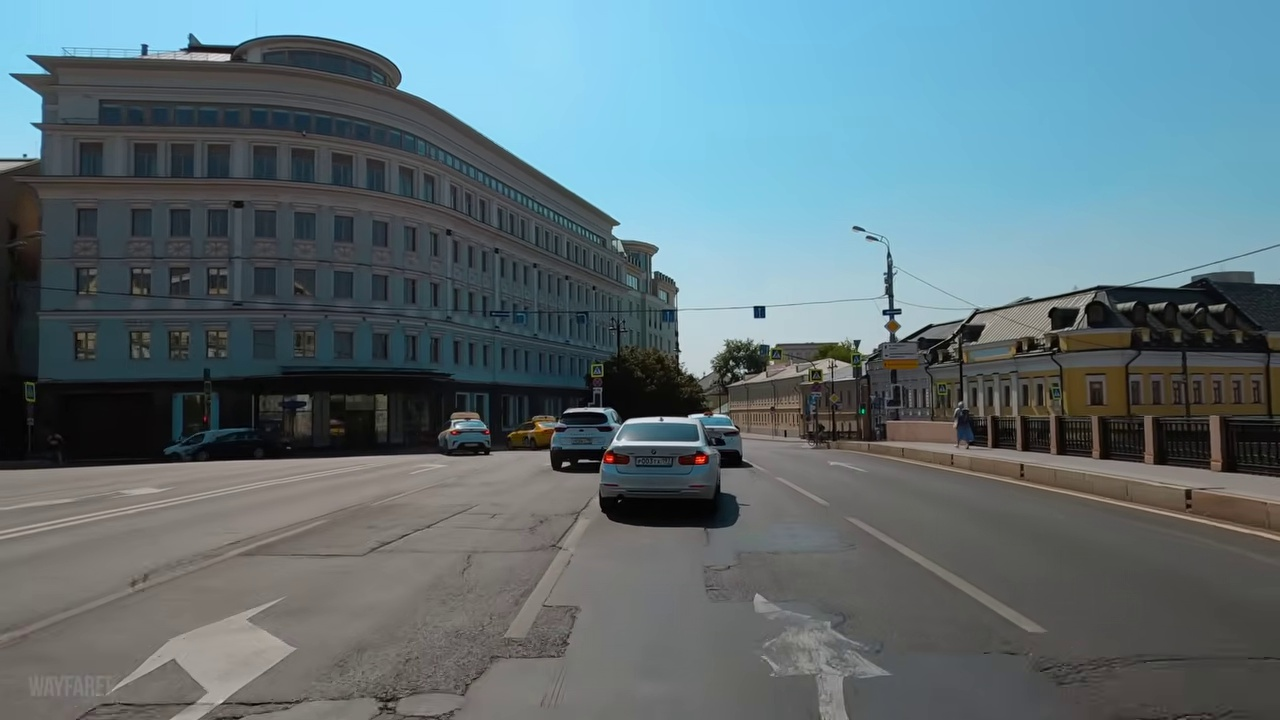apagada: (847, 218, 875, 243)
